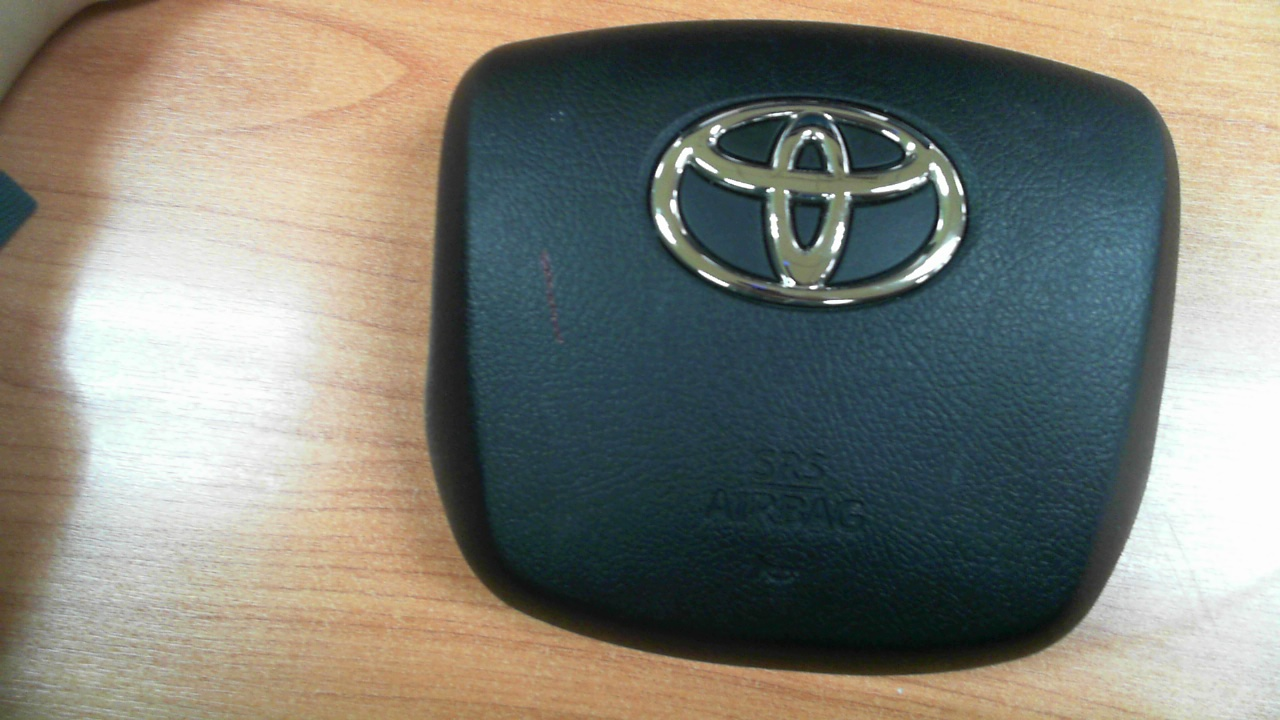Airbag: (424, 17, 1183, 678)
Toyota: (650, 101, 967, 306)
